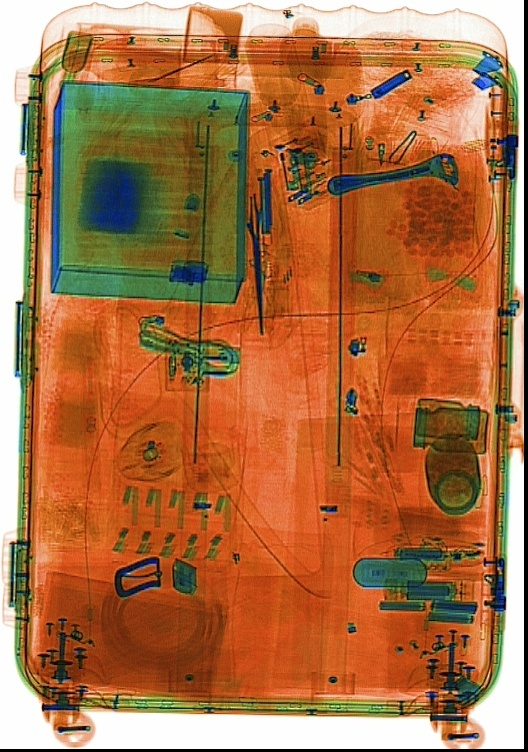scissors: (223, 150, 278, 337)
